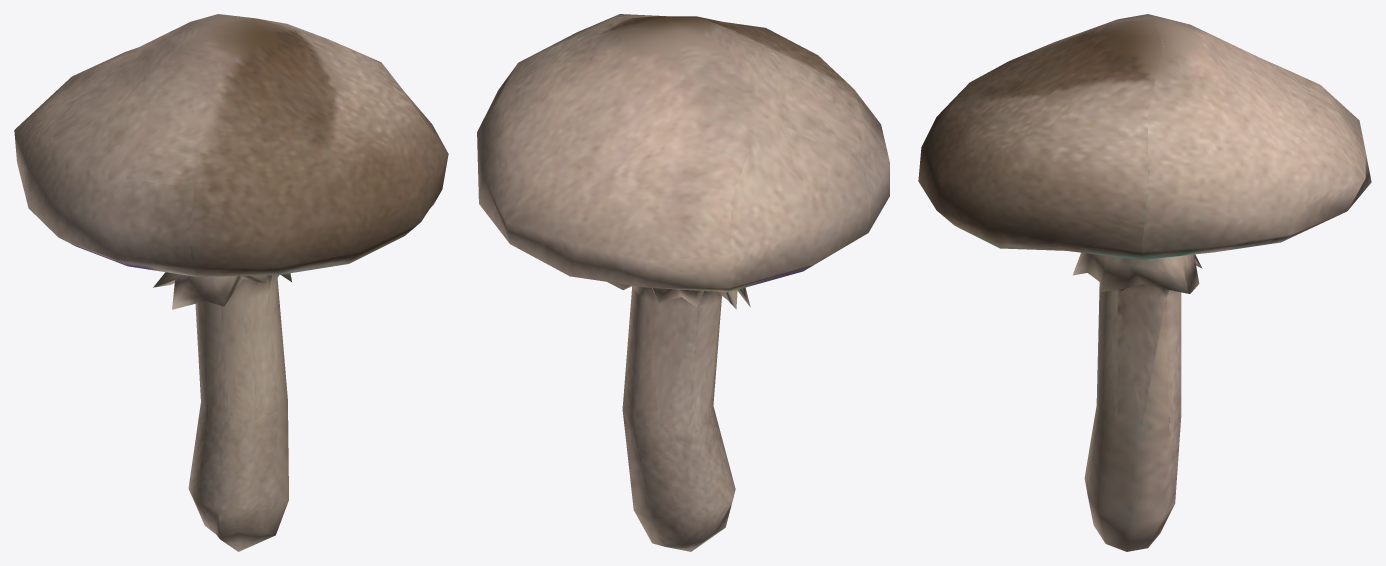
The model's file is fungus-pale-c.gltf.
3 renders of one model, left to right at view 1: azimuth 30°, elevation 25°; view 2: azimuth 150°, elevation 25°; view 3: azimuth 270°, elevation 25°, orthographic. The views are drawn at different scales.
Parts seen in each view (by area): view 1: fungus-pale-c; view 2: fungus-pale-c; view 3: fungus-pale-c.
Boxes of the visible parts, <box> form: fungus-pale-c: <box>14,14,448,551</box>; fungus-pale-c: <box>477,14,889,551</box>; fungus-pale-c: <box>918,14,1371,551</box>.
Bounding box in the file's own units: 0.332 × 0.4663 × 0.3662.
Materials: 1 (1 with a texture image).
